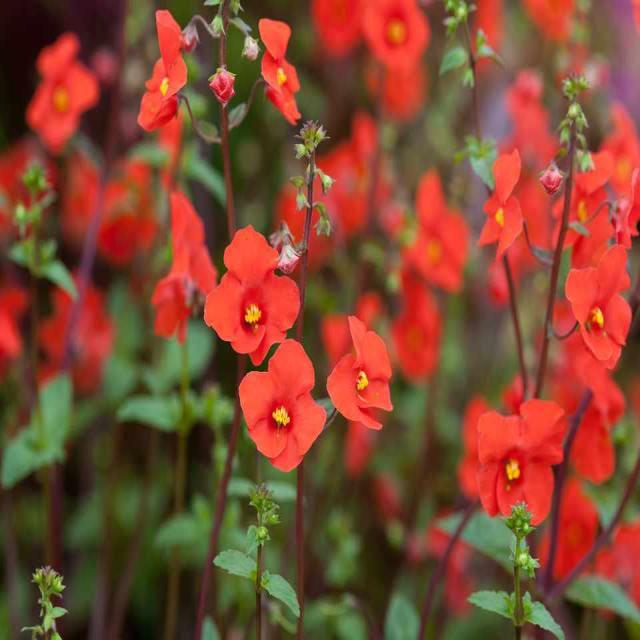other: (13, 42, 149, 380), (209, 247, 391, 449), (315, 6, 428, 222), (393, 172, 468, 386), (472, 384, 561, 531), (563, 242, 636, 371), (134, 11, 206, 141), (242, 14, 312, 142), (471, 144, 528, 263)
